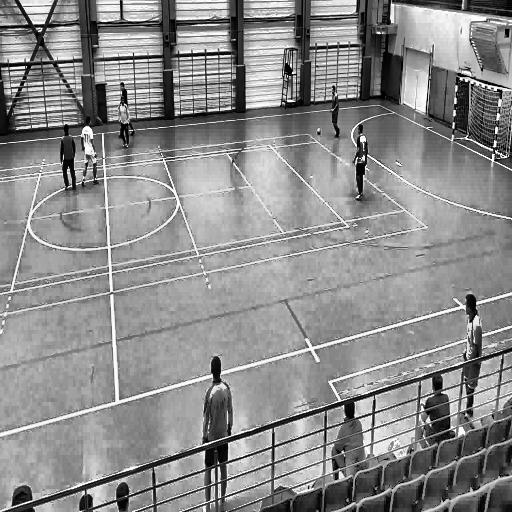ball: (316, 125, 323, 139)
player: (201, 354, 233, 511), (332, 388, 365, 486), (414, 368, 452, 446), (460, 290, 482, 418), (80, 116, 103, 188), (59, 121, 78, 194), (354, 122, 370, 204), (117, 80, 137, 140), (329, 82, 342, 143), (118, 96, 131, 150)
